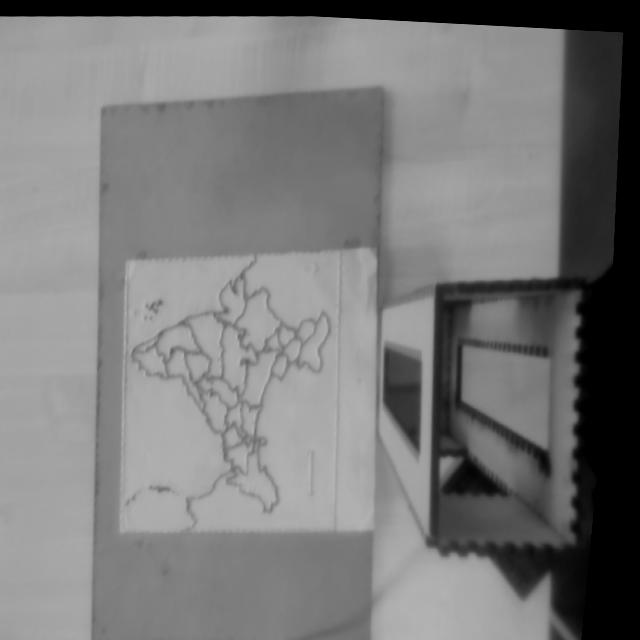map: (120, 245, 341, 537)
